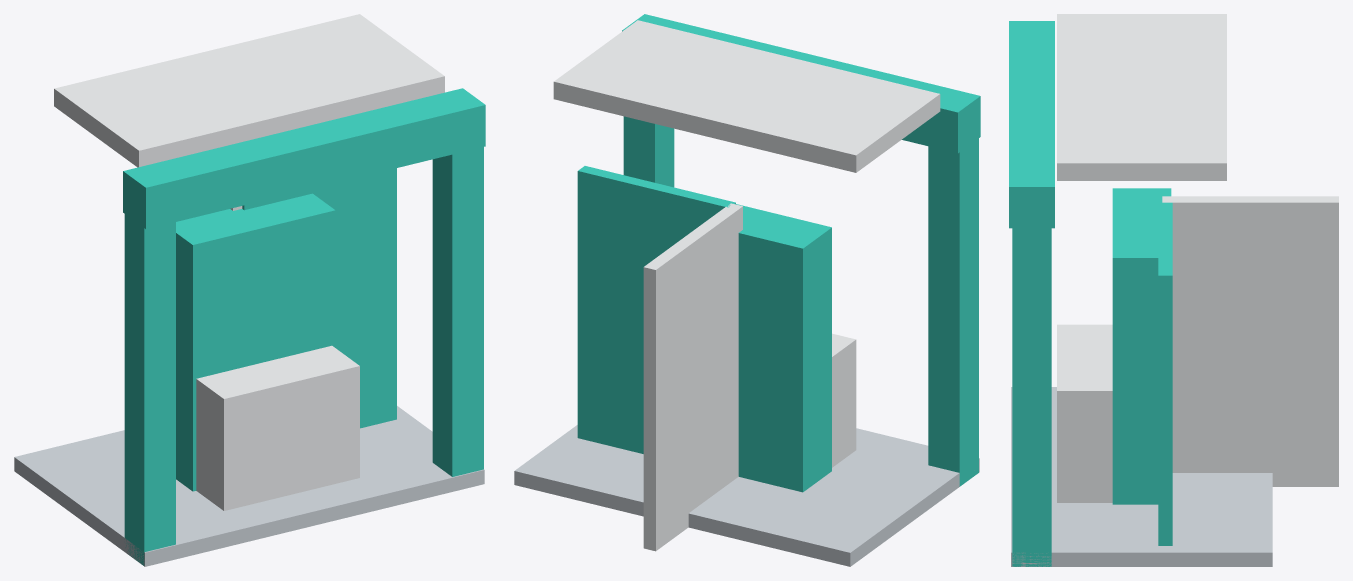
3 renders of one model, left to right at view 1: azimuth 30°, elevation 25°; view 2: azimuth 150°, elevation 25°; view 3: azimuth 270°, elevation 25°, orthographic.
Parts seen in each view (by area): view 1: Exhibition Booth Concept; view 2: Exhibition Booth Concept; view 3: Exhibition Booth Concept.
Boxes of the visible parts, x1,y1,x2,y2 form: Exhibition Booth Concept: [14, 14, 485, 566]; Exhibition Booth Concept: [514, 14, 980, 566]; Exhibition Booth Concept: [1009, 14, 1338, 566].
Bounding box in the file's own units: 3 × 3.34 × 2.52.
